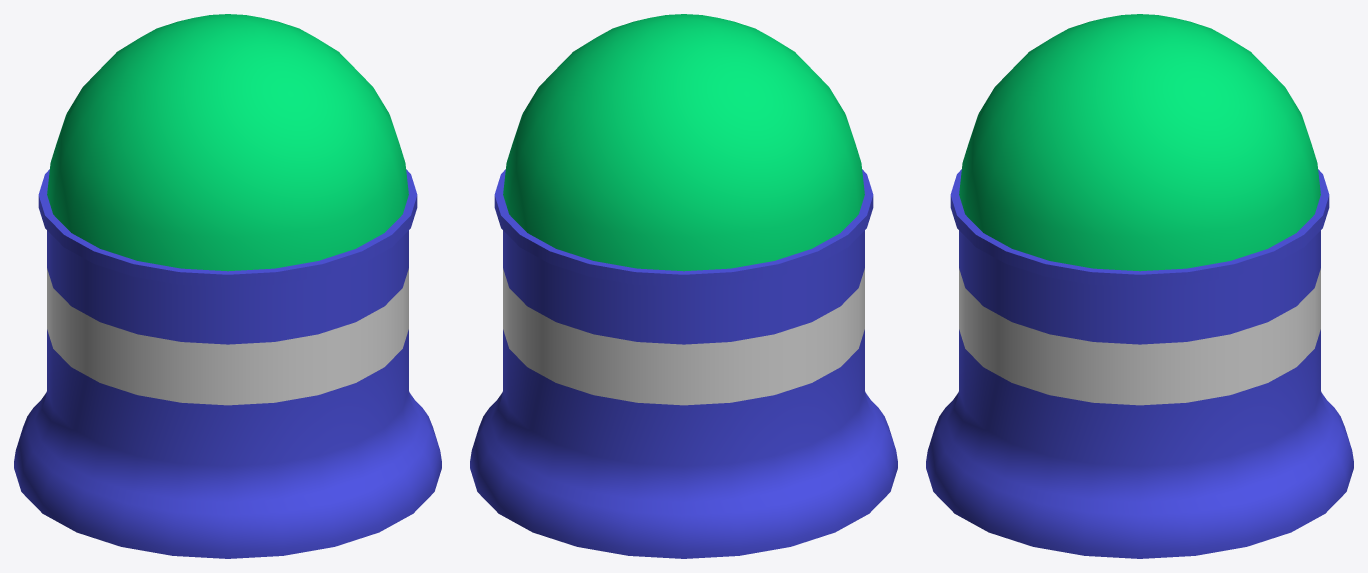
Rendered from diode.fbx.
The picture shows the model from 3 angles, left to right: view 1: azimuth 30°, elevation 25°; view 2: azimuth 150°, elevation 25°; view 3: azimuth 270°, elevation 25°; orthographic projection.
Parts seen in each view (by area): view 1: Sphere; view 2: Sphere; view 3: Sphere.
Boxes of the visible parts, x1=… form: Sphere: x1=14, y1=14, x2=441, y2=558; Sphere: x1=470, y1=14, x2=897, y2=558; Sphere: x1=926, y1=14, x2=1353, y2=558.
Bounding box in the file's own units: 236 × 267 × 236.
